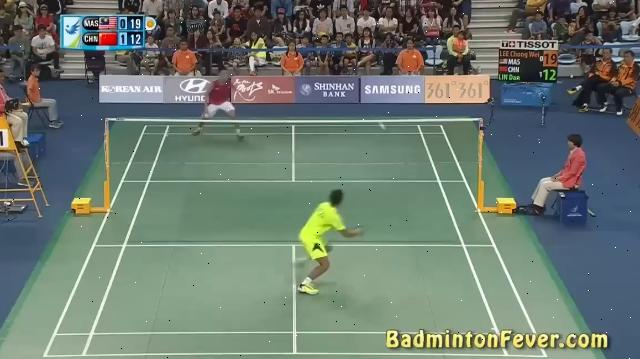Shuttlecock: (378, 122, 389, 132)
